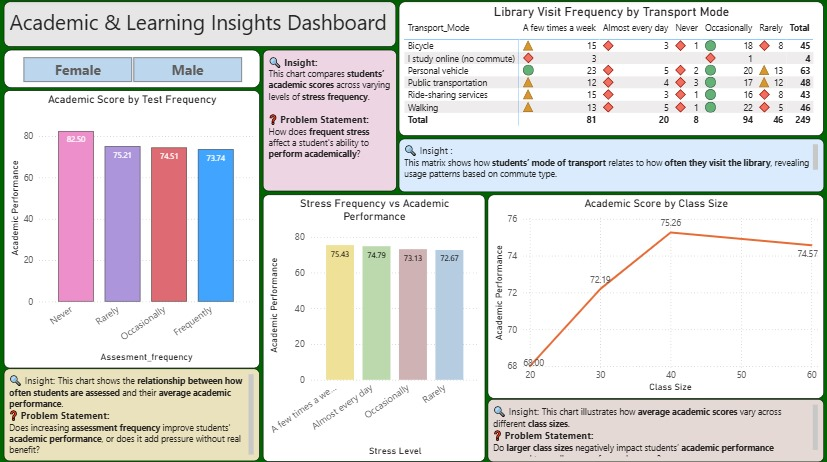

The page's visual inventory and layout, read from the dashboard file:
{"tool":"powerbi","page":{"name":"Page no 2","canvas":[1280,720],"ordinal":2},"visuals":[{"type":"textbox","box":[5.8,4.8,607.2,70.2],"z":0},{"type":"slicer","fields":{"Values":["Schools Data.Gender"]},"box":[5.9,78.8,397,58.9],"z":1000},{"type":"columnChart","title":"Stress Frequency vs Academic Performance","fields":{"Category":["Schools Data.Stres_ Frequency"],"Y":["Avg(Schools Data.Academic_Performance%)"]},"box":[405.9,302.5,344.1,413.6],"z":5000},{"type":"textbox","box":[754.2,618.2,520.3,97.9],"z":6000},{"type":"lineChart","title":"Academic Score by Class Size","fields":{"Y":["Avg(Schools Data.Academic_Performance%)"],"Category":["Schools Data.  Class Size  "]},"box":[754.2,302.5,520.3,315.7],"z":7000},{"type":"textbox","box":[405.9,78.8,207.2,219.1],"z":8000},{"type":"clusteredColumnChart","title":"Academic Score by Test Frequency","fields":{"Category":["Schools Data.Assesment_frequency"],"Y":["Avg(Schools Data.Academic_Performance%)"]},"box":[5.9,140.7,396.2,429.7],"z":9000},{"type":"textbox","box":[5.9,572.9,396.2,143.2],"z":10000},{"type":"pivotTable","title":"Library Visit Frequency by Transport Mode","fields":{"Rows":["Schools Data.Transport_Mode"],"Columns":["Schools Data.Library_visit_frequency"],"Values":["CountNonNull(Schools Data.Gender)"]},"box":[617.4,4.7,657.2,208.1],"z":11000},{"type":"textbox","box":[616.5,215.7,658.1,83.1],"z":12000}]}

Visuals, with their boxes in screenshot pixels (x1, y1, x2, y2), scaled from the page's 1280x720 canvas onto the 827x462 screenshot:
textbox: bbox=(4, 3, 396, 48)
slicer - Schools Data.Gender: bbox=(4, 51, 260, 88)
"Stress Frequency vs Academic Performance" columnChart: bbox=(262, 194, 485, 459)
textbox: bbox=(487, 397, 823, 459)
"Academic Score by Class Size" lineChart: bbox=(487, 194, 823, 397)
textbox: bbox=(262, 51, 396, 191)
"Academic Score by Test Frequency" clusteredColumnChart: bbox=(4, 90, 260, 366)
textbox: bbox=(4, 368, 260, 459)
"Library Visit Frequency by Transport Mode" pivotTable: bbox=(399, 3, 824, 137)
textbox: bbox=(398, 138, 824, 192)
